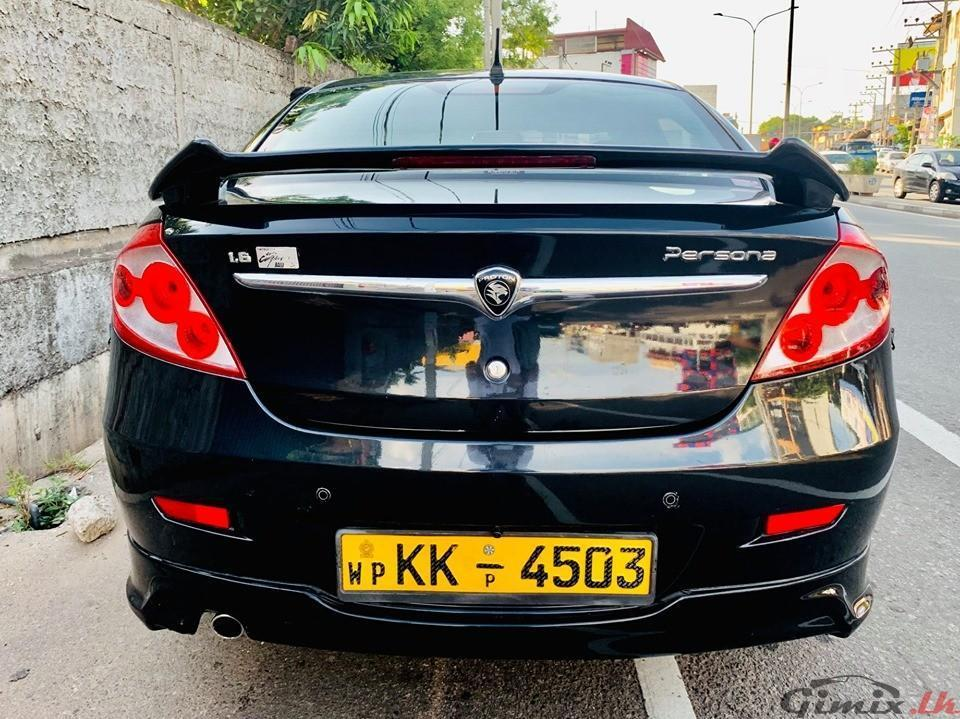license-plate: (341, 532, 649, 596)
